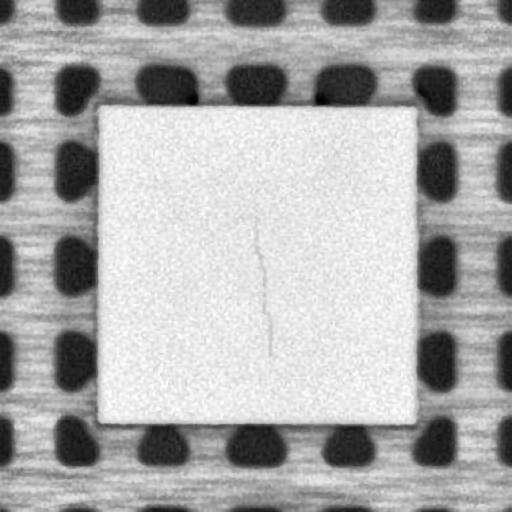DIE_CRACK: (251, 214, 275, 356)
